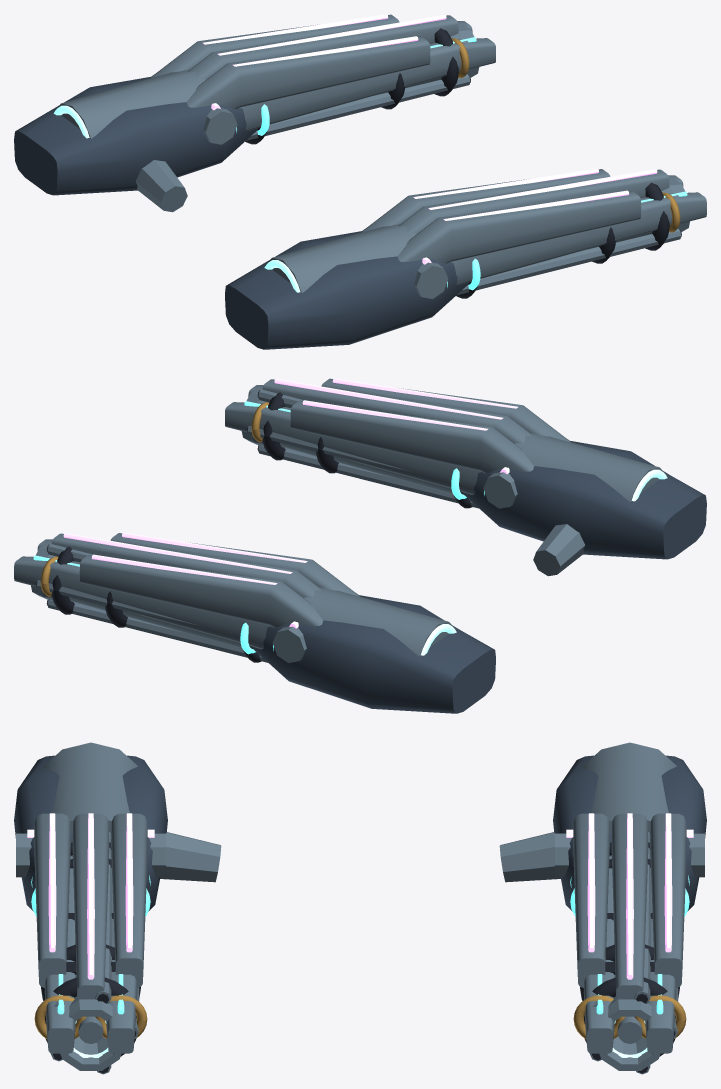
File: mount.glb
The picture shows the model from 3 angles, top to bottom: view 1: azimuth 30°, elevation 25°; view 2: azimuth 150°, elevation 25°; view 3: azimuth 270°, elevation 25°; orthographic projection. The views are drawn at different scales.
Visible parts, largest first — view 1: m_array Brushed fitting edges, m_heavy Fitting gunmetal, m_rotary Brushed fitting edges, m_siege Brushed fitting edges, m_array m_array emitter, m_heavy Brushed fitting edges, m_rotary Machined graphite, m_siege m_siege emitter, m_rotary m_rotary emitter, m_siege Champagne gold edging; view 2: m_array Brushed fitting edges, m_heavy Fitting gunmetal, m_rotary Brushed fitting edges, m_siege Brushed fitting edges, m_array m_array emitter, m_heavy Brushed fitting edges, m_rotary Machined graphite, m_siege m_siege emitter, m_rotary m_rotary emitter, m_siege Champagne gold edging; view 3: m_array Brushed fitting edges, m_rotary Brushed fitting edges, m_heavy Fitting gunmetal, m_heavy Brushed fitting edges, m_siege Brushed fitting edges, m_array m_array emitter, m_siege Champagne gold edging, m_rotary Machined graphite, m_siege m_siege emitter.
Boxes of the visible parts, x1,y1,x2,y2 form: m_array Brushed fitting edges: [150, 14, 669, 298]; m_heavy Fitting gunmetal: [14, 77, 468, 349]; m_rotary Brushed fitting edges: [54, 40, 681, 295]; m_siege Brushed fitting edges: [240, 21, 706, 285]; m_array m_array emitter: [203, 14, 657, 264]; m_heavy Brushed fitting edges: [135, 23, 689, 249]; m_rotary Machined graphite: [381, 28, 681, 263]; m_siege m_siege emitter: [236, 37, 687, 290]; m_rotary m_rotary emitter: [53, 105, 300, 292]; m_siege Champagne gold edging: [451, 38, 680, 232]; m_array Brushed fitting edges: [51, 378, 570, 662]; m_heavy Fitting gunmetal: [252, 441, 706, 713]; m_rotary Brushed fitting edges: [36, 388, 666, 662]; m_siege Brushed fitting edges: [14, 385, 481, 649]; m_array m_array emitter: [63, 378, 517, 628]; m_heavy Brushed fitting edges: [31, 387, 585, 652]; m_rotary Machined graphite: [36, 390, 338, 627]; m_siege m_siege emitter: [33, 401, 484, 654]; m_rotary m_rotary emitter: [421, 469, 667, 655]; m_siege Champagne gold edging: [40, 402, 268, 596]; m_array Brushed fitting edges: [16, 813, 704, 1000]; m_rotary Brushed fitting edges: [43, 742, 678, 1074]; m_heavy Fitting gunmetal: [14, 755, 706, 911]; m_heavy Brushed fitting edges: [60, 832, 660, 1070]; m_siege Brushed fitting edges: [44, 856, 676, 1053]; m_array m_array emitter: [27, 813, 693, 979]; m_siege Champagne gold edging: [34, 995, 686, 1038]; m_rotary Machined graphite: [41, 944, 679, 1073]; m_siege m_siege emitter: [31, 875, 689, 1014].
Size of the model in its own units: 17 by 3.72 by 18.
